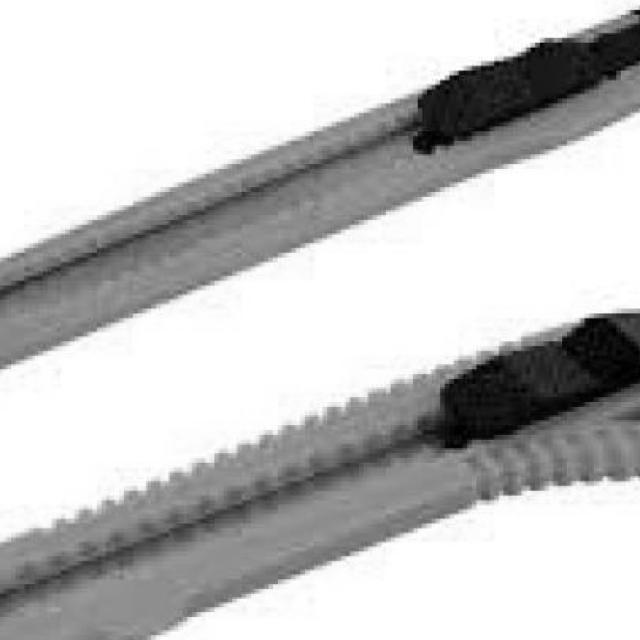estilete: (0, 9, 640, 365), (0, 314, 640, 640)
